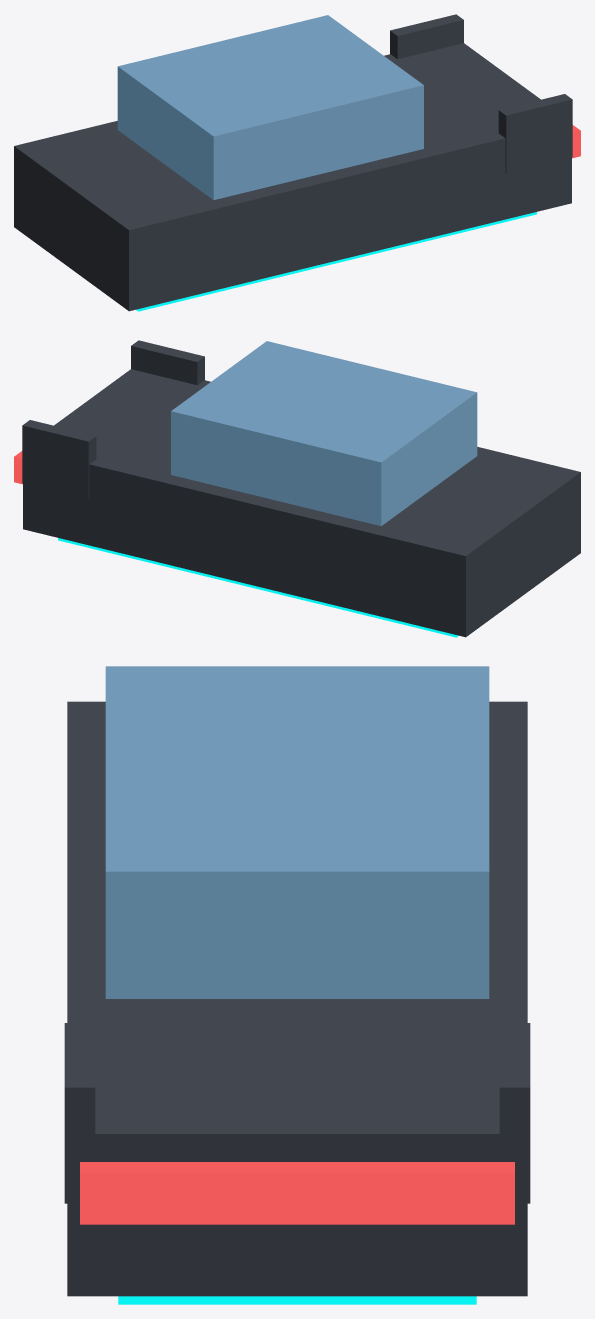
The model's file is av-meshopt.glb.
3 views of the same model, one above another, from view 1: azimuth 30°, elevation 25°; view 2: azimuth 150°, elevation 25°; view 3: azimuth 270°, elevation 25° (orthographic). The views are drawn at different scales.
Bounding box in the file's own units: 4.11 × 1.38 × 1.82.
